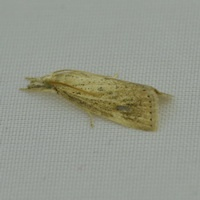insect: (26, 69, 171, 130)
